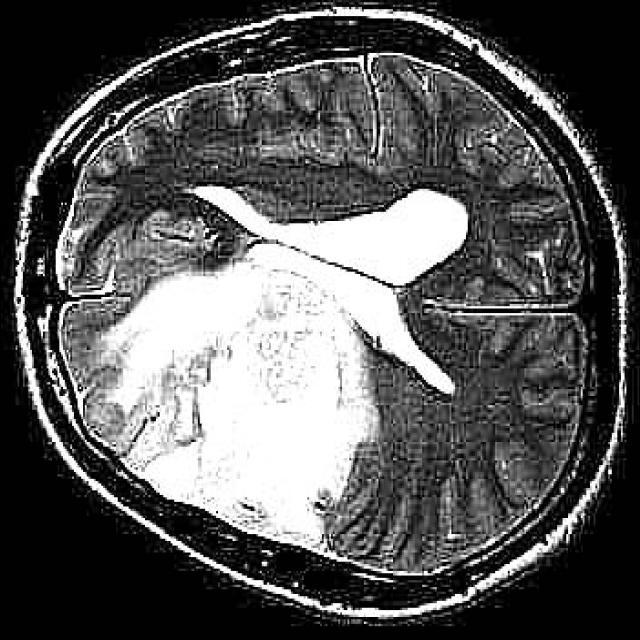tumor: (88, 186, 465, 555)
